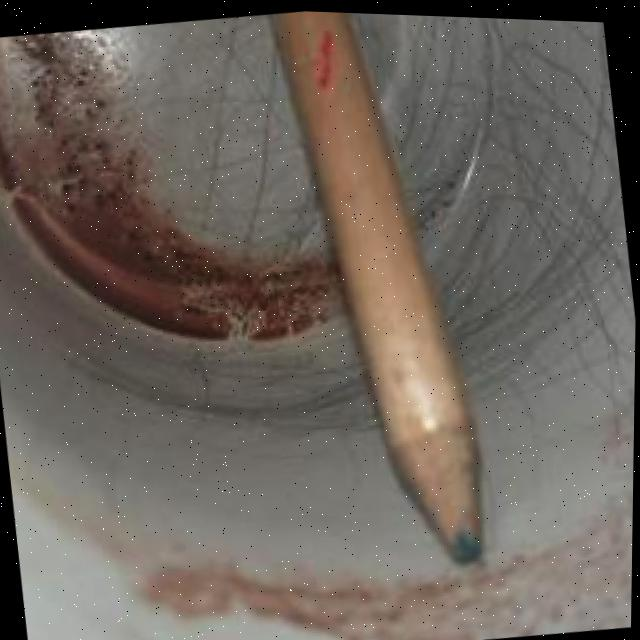pencil: (274, 8, 501, 580)
